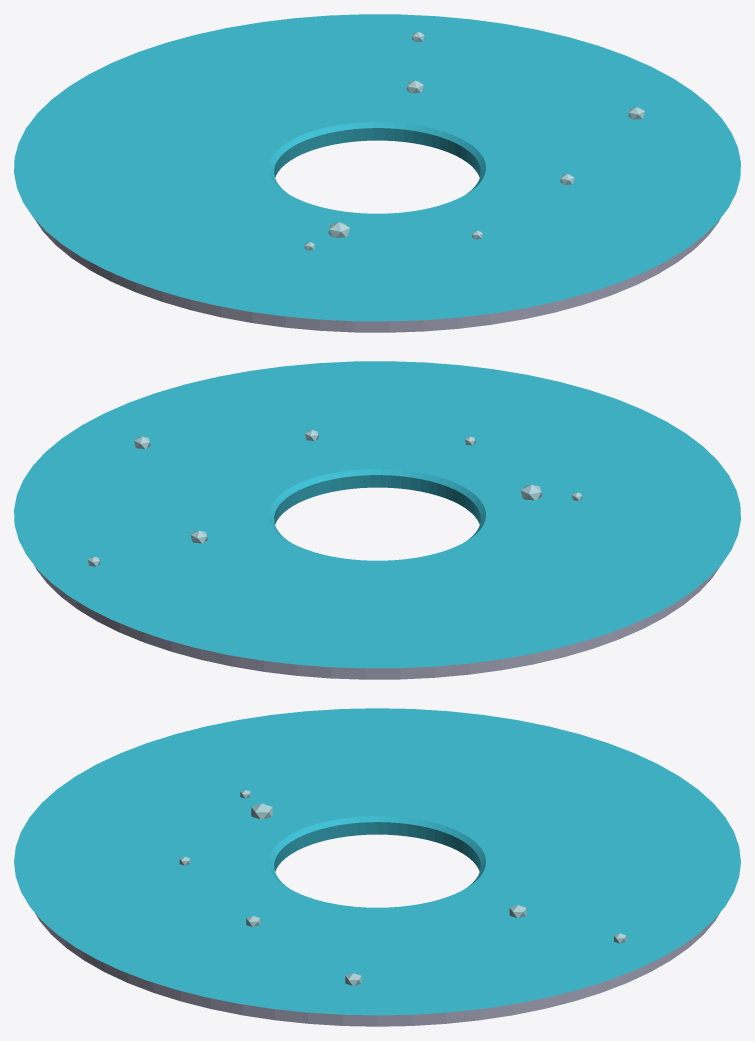
File: goo_jar_deck_4@space.fbx
3 renders of one model, top to bottom at view 1: azimuth 30°, elevation 25°; view 2: azimuth 150°, elevation 25°; view 3: azimuth 270°, elevation 25°, orthographic.
Visible parts, largest first — view 1: goo_jar_deck_4; view 2: goo_jar_deck_4; view 3: goo_jar_deck_4.
Part boxes in pixels (x1,y1,x2,y2): goo_jar_deck_4: [14, 14, 740, 332]; goo_jar_deck_4: [14, 361, 740, 679]; goo_jar_deck_4: [14, 708, 740, 1026].
Size of the model in its own units: 42.2 by 1.78 by 42.2.
